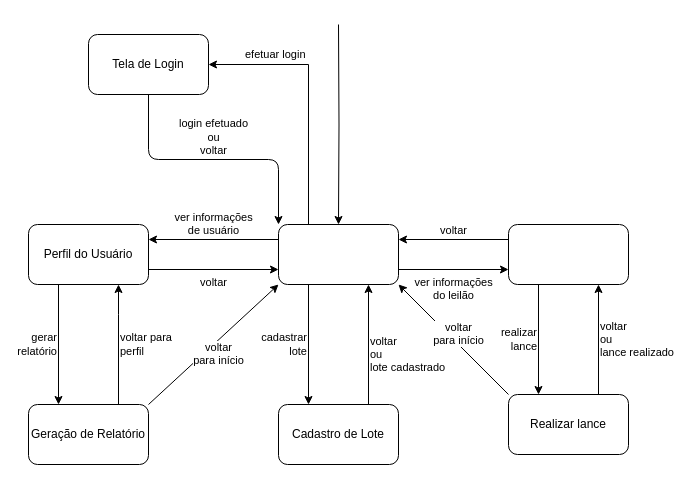
This 692x482 diagram has some shape labels left out. Each missing label, with the centre of its shape:
Detalhes do leilão: (568,254)
Tela inicial: (338,254)
